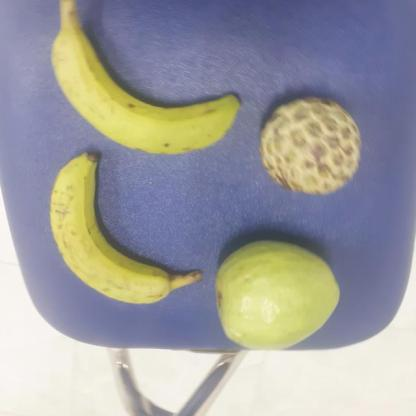annona: (260, 96, 366, 194)
banana: (63, 16, 250, 154), (54, 152, 205, 302)
guava: (216, 238, 342, 352)
